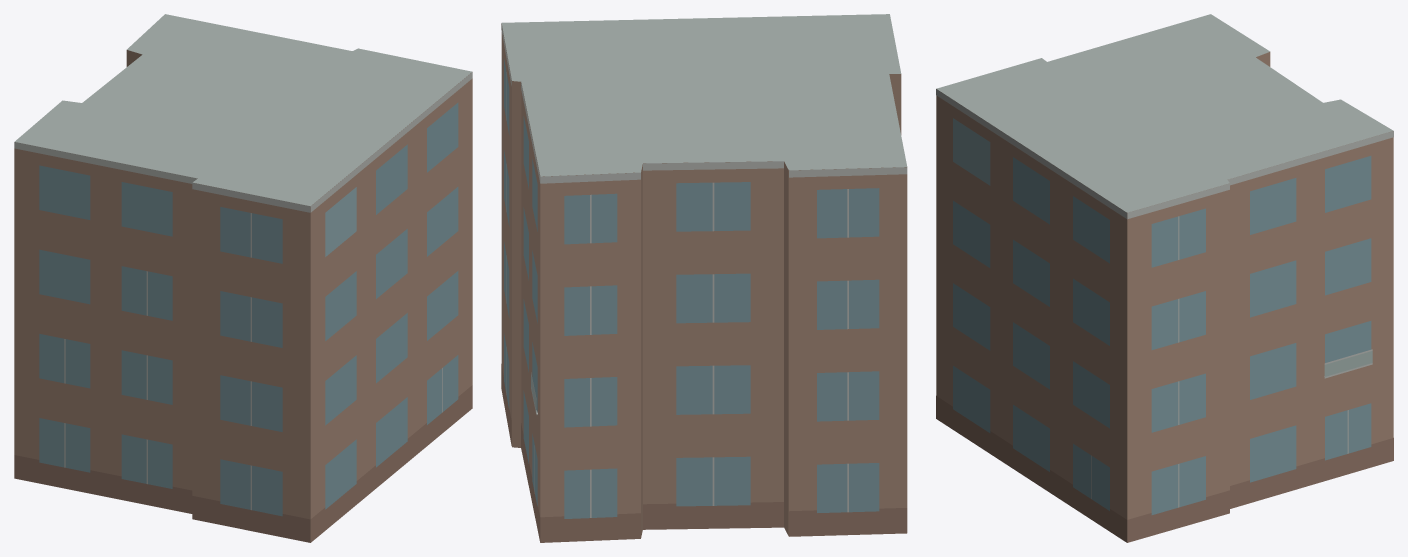
File: survey-upis-32674411.glb
3 views of the same model, side by side, from view 1: azimuth 30°, elevation 25°; view 2: azimuth 150°, elevation 25°; view 3: azimuth 270°, elevation 25° (orthographic). The views are drawn at different scales.
Parts seen in each view (by area): view 1: survey-upis-32674411.tmp; view 2: survey-upis-32674411.tmp; view 3: survey-upis-32674411.tmp.
Boxes of the visible parts, x1,y1,x2,y2 form: survey-upis-32674411.tmp: (14,14,472,542); survey-upis-32674411.tmp: (501,14,907,542); survey-upis-32674411.tmp: (936,14,1393,542).
Bounding box in the file's own units: 16.03 × 12.4 × 15.59.
